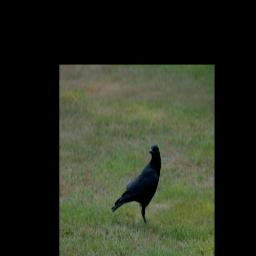Crow: (111, 142, 161, 225)
